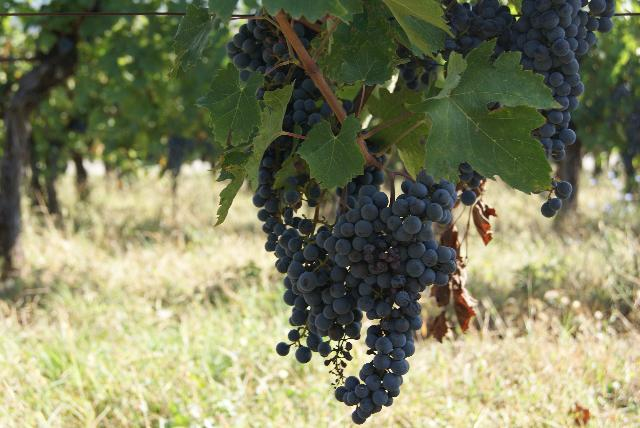grapes: (335, 171, 458, 422), (509, 0, 615, 161), (275, 229, 362, 385), (541, 181, 572, 218)
